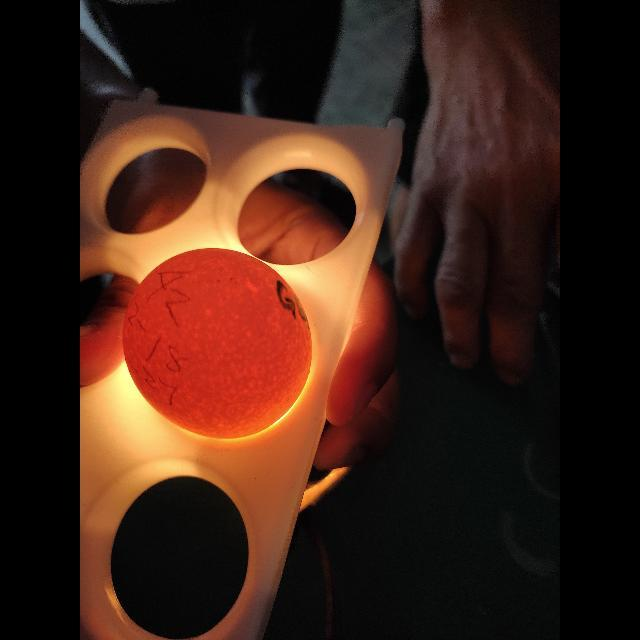Infertile: (124, 243, 318, 444)
